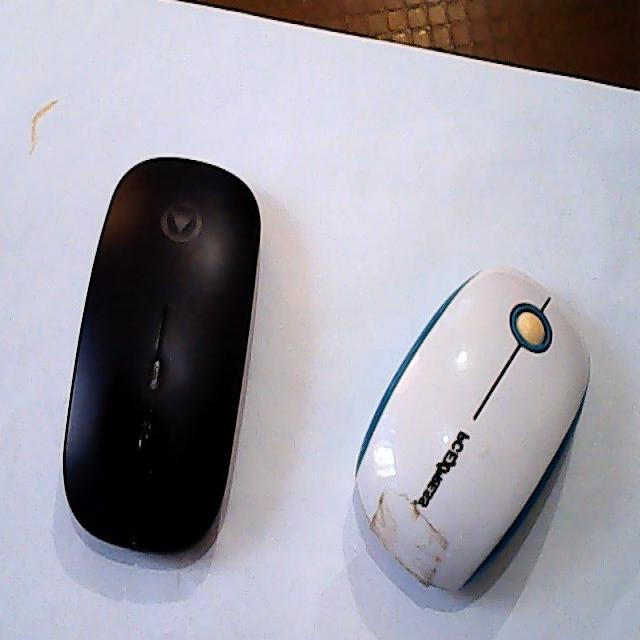mouse: (332, 281, 605, 611)
